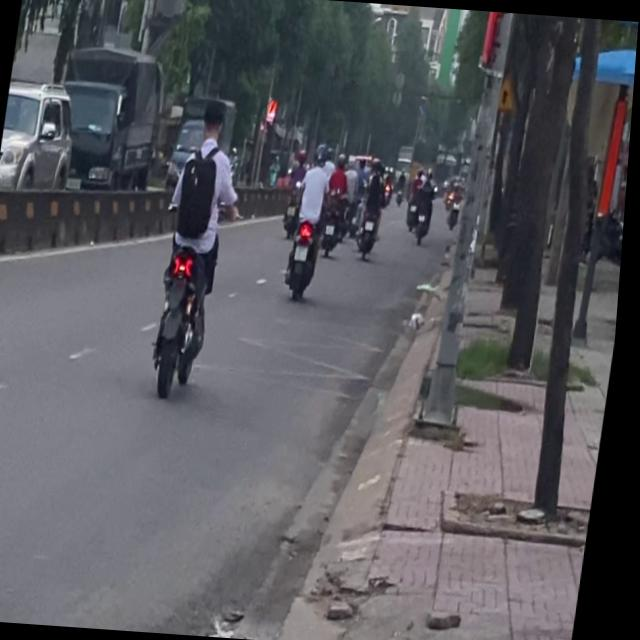licenseplate: (144, 95, 251, 400)
motorcyclist: (198, 98, 229, 144)
